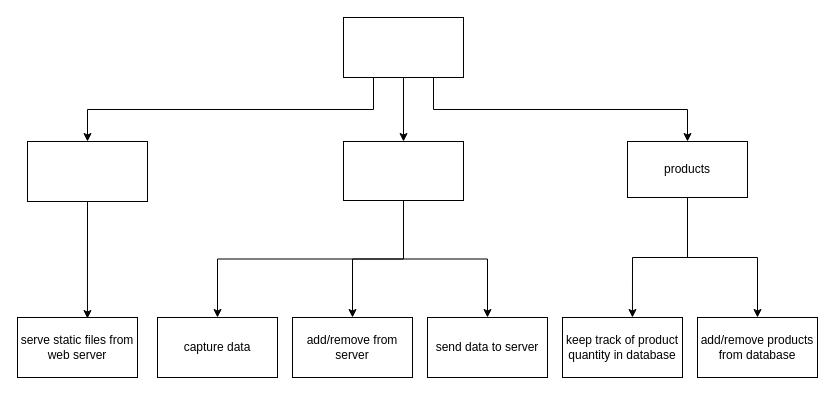
Some shapes in this 835 by 395 pixel diagram are drawn without their labels. The shapes that lost their labels are listed below. From the top down, each one's centre as x and y in pixels, then its label:
At pixel 403 47: "server".
At pixel 87 171: "home page".
At pixel 403 170: "contact".
